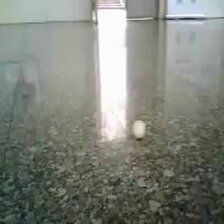w: (131, 119, 147, 141)
